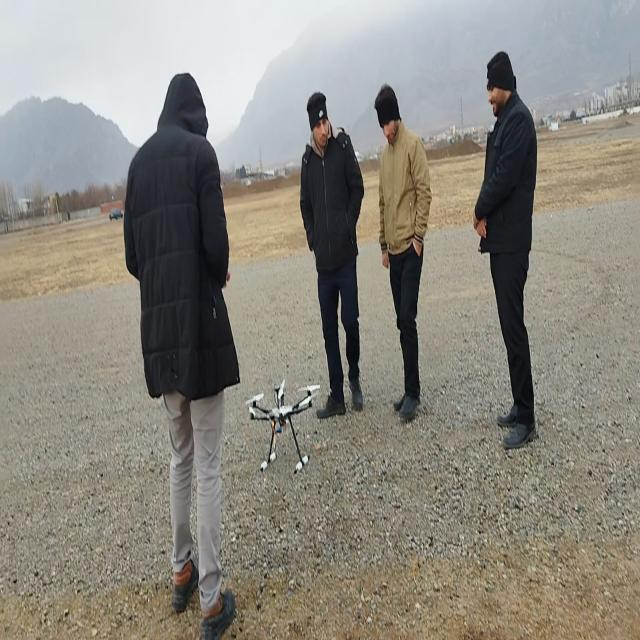drone: (245, 379, 321, 474)
